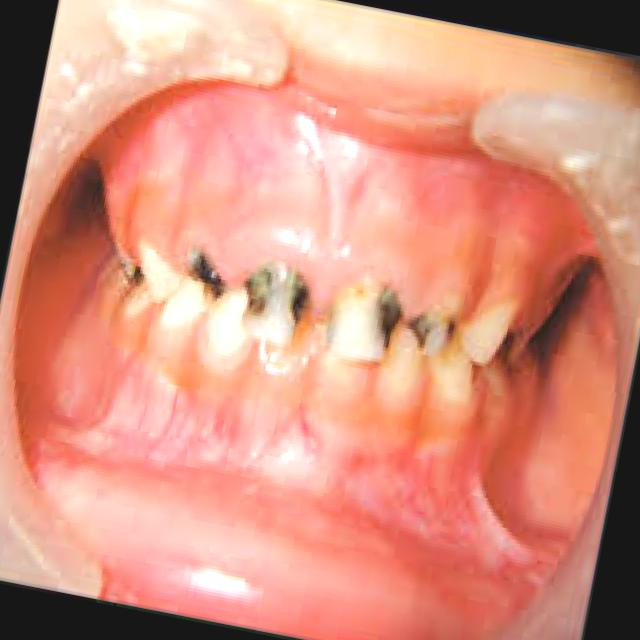caries: (230, 252, 322, 354), (394, 279, 468, 370), (174, 236, 236, 316), (354, 278, 404, 358)
